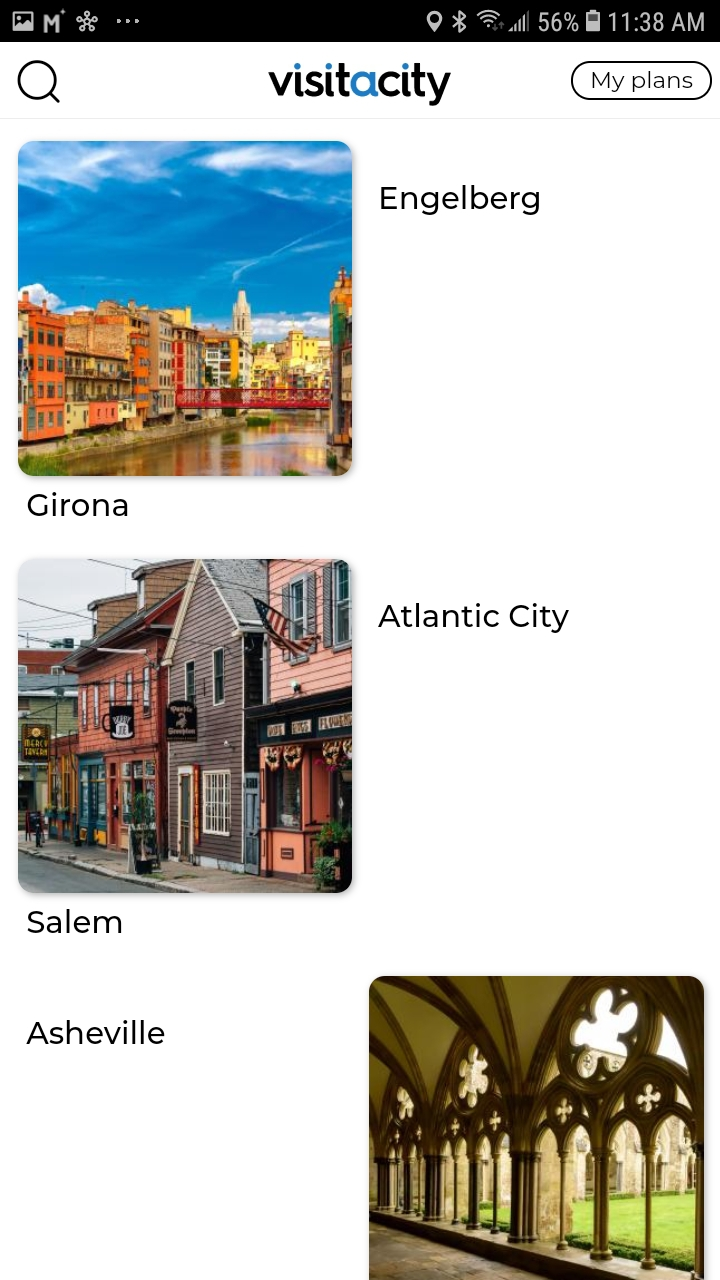Icon: (17, 60, 61, 104)
Image: (18, 141, 353, 477), (18, 559, 353, 894), (369, 976, 705, 1280), (268, 62, 452, 107)
Text: (378, 603, 570, 634), (381, 185, 540, 217), (27, 1019, 166, 1045), (28, 492, 129, 518), (28, 908, 123, 934)
TextButton: (570, 61, 712, 101)
UpperTaskBar: (1, 1, 720, 43)
